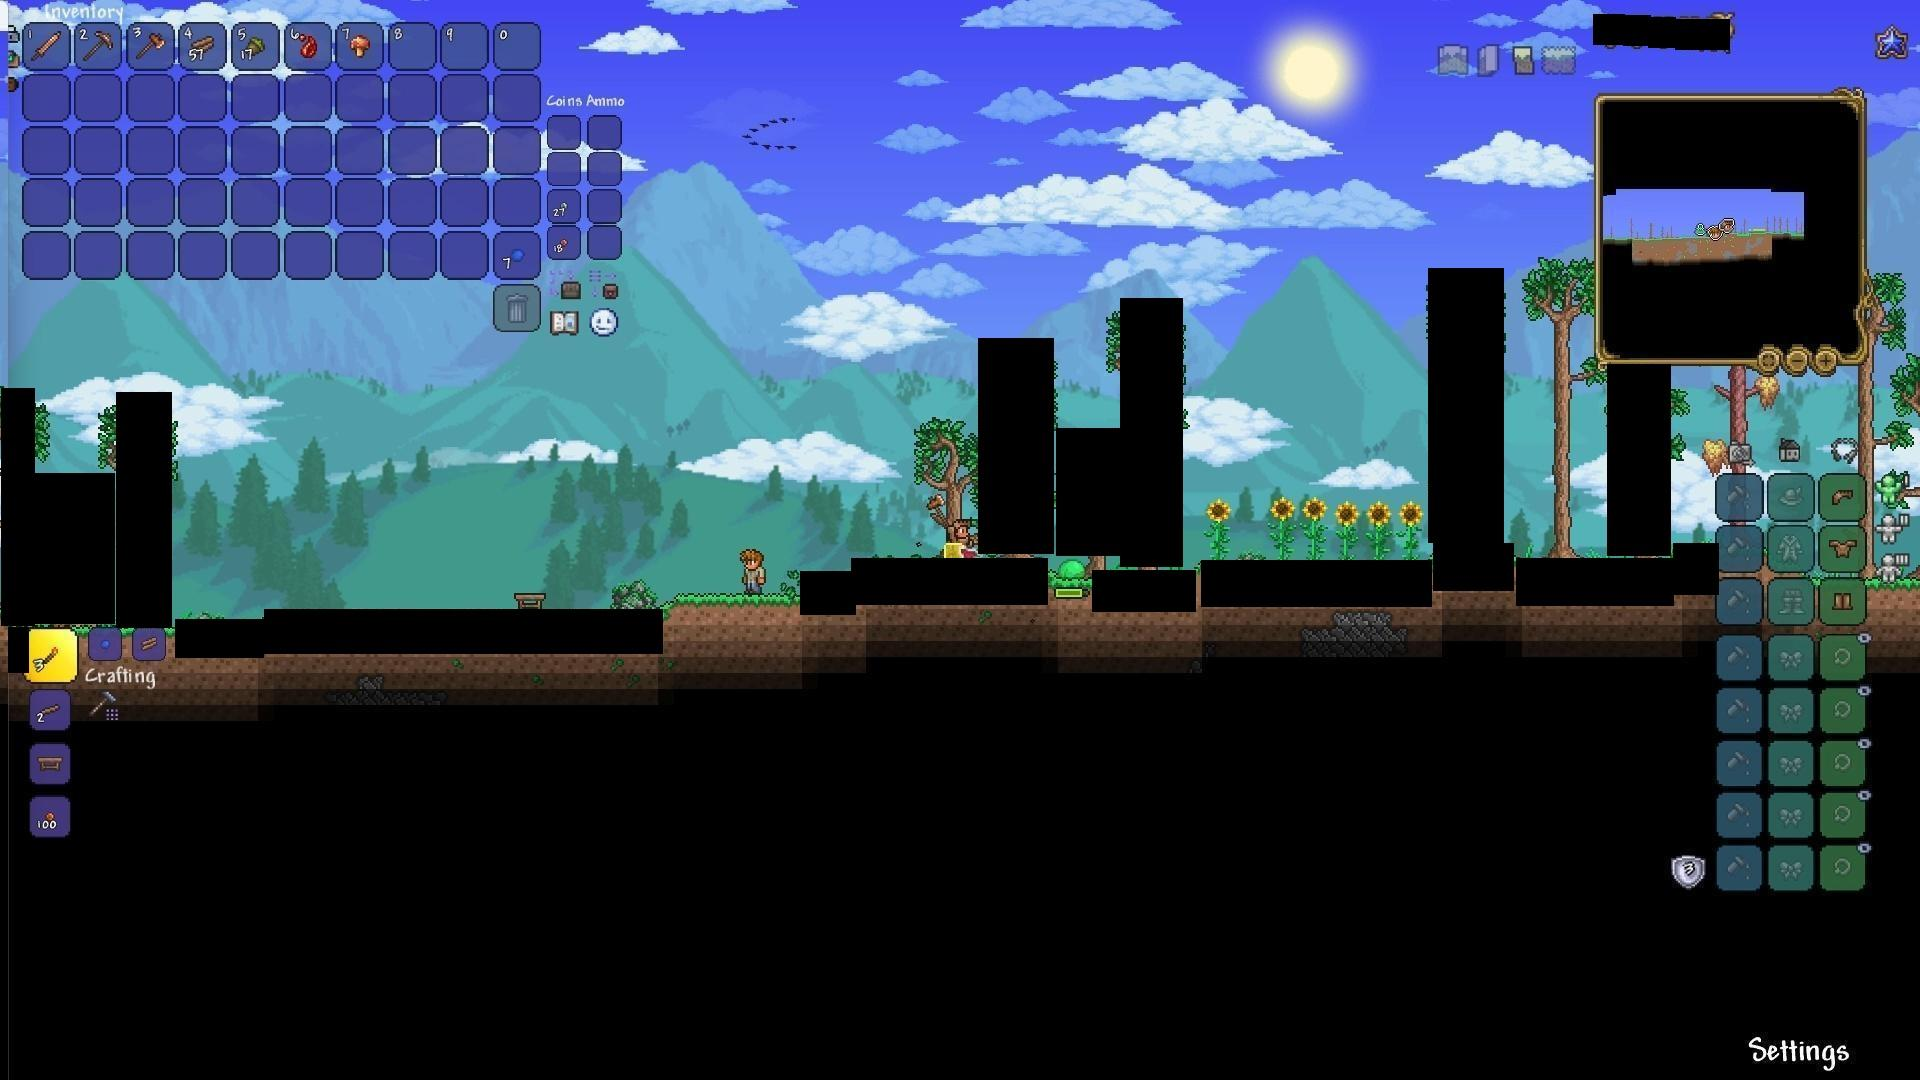breastplate: (1830, 537, 1859, 559)
dirt: (663, 584, 799, 636), (1869, 572, 1920, 622)
helmet: (1829, 484, 1857, 509)
legs: (1830, 588, 1855, 616)
slime: (1054, 555, 1088, 580)
tree: (1528, 252, 1586, 558), (914, 407, 981, 556)
wood: (135, 632, 165, 659), (189, 32, 218, 59)
workbench: (510, 588, 551, 615), (32, 750, 69, 775)
